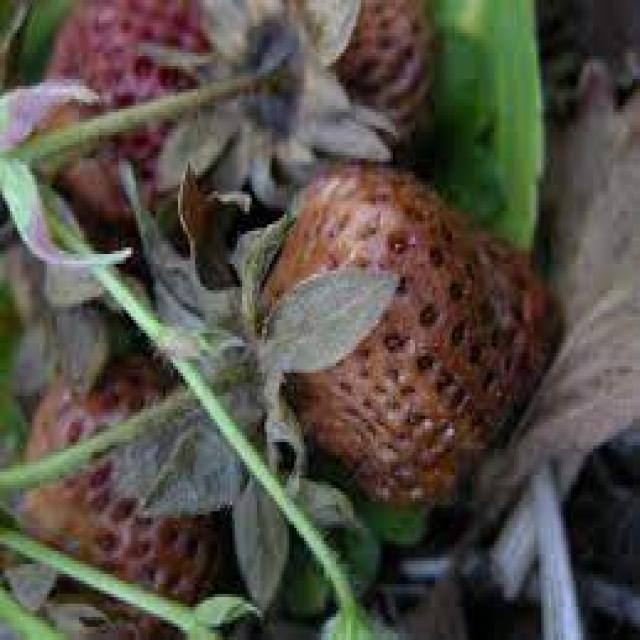Podredumbre de cuero: (256, 148, 563, 490), (18, 332, 245, 620), (57, 0, 251, 226), (274, 0, 454, 148)
